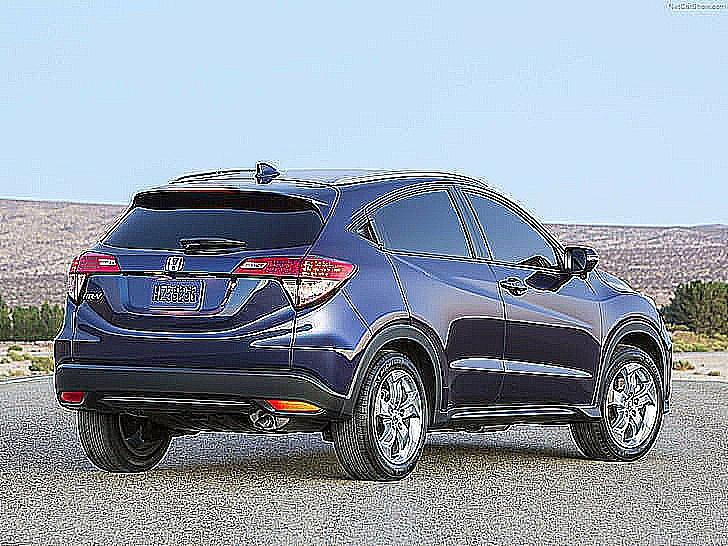Car boot: (72, 178, 337, 377)
Car hood: (593, 261, 647, 297)
Driver-s door - -F-R-: (474, 178, 607, 408)
Fender - -F-R-: (582, 276, 661, 418)
Fender - -R-R-: (309, 222, 415, 348)
Front bumper: (656, 312, 685, 412)
Passenger-s door - -R-R-: (376, 175, 506, 407)
Rear bumper: (50, 293, 380, 428)
Rear light - -L-: (61, 247, 125, 310)
Rear light - -R-: (228, 253, 359, 318)
Side bumper - -R-: (422, 398, 615, 438)
Side mirror - -R-: (556, 237, 602, 281)
